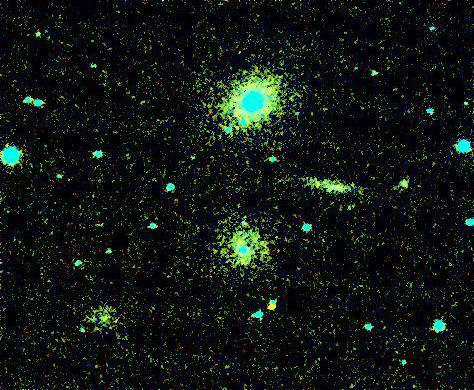star: (255, 294, 285, 324)
